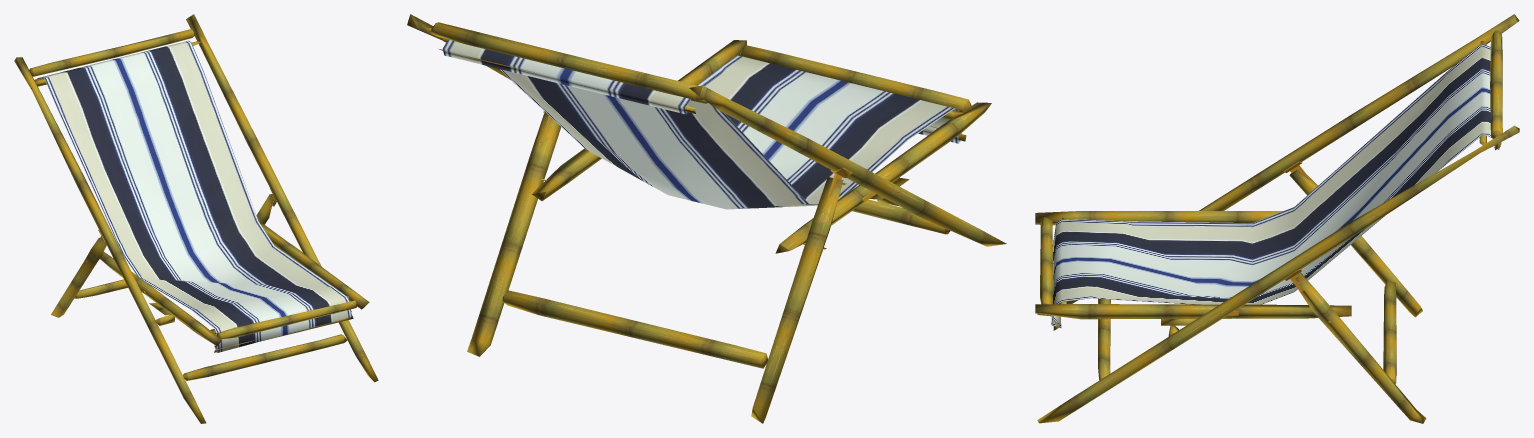
File: ghe-bien.glb
The picture shows the model from 3 angles, left to right: view 1: azimuth 30°, elevation 25°; view 2: azimuth 150°, elevation 25°; view 3: azimuth 270°, elevation 25°; orthographic projection. The views are drawn at different scales.
Visible parts, largest first — view 1: Cylinder.010; view 2: Cylinder.010; view 3: Cylinder.010.
Part boxes in pixels (x1,y1,x2,y2): Cylinder.010: (14, 14, 378, 423); Cylinder.010: (407, 14, 1006, 423); Cylinder.010: (1035, 14, 1519, 423).
Size of the model in its own units: 0.5603 by 0.6771 by 0.9978.
6 materials, 5 textured.
